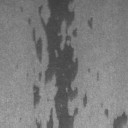red iron: (37, 0, 80, 128), (32, 27, 43, 64), (112, 110, 128, 128), (32, 83, 42, 109), (46, 107, 54, 128), (87, 16, 94, 30), (82, 93, 88, 108), (34, 117, 42, 128), (104, 108, 109, 117), (27, 18, 32, 26)
